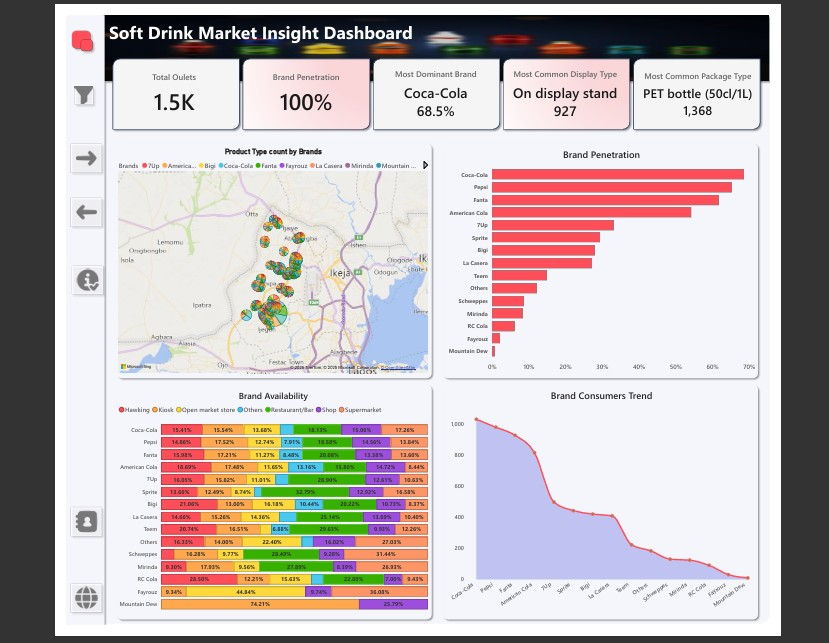

What the dashboard file says about the page in this screenshot:
{"tool":"powerbi","page":{"name":"Dashboard 1","canvas":[1500,1300],"ordinal":0},"visuals":[{"type":"map","title":"Product Type count by Brands","fields":{"Y":["Oulet_info.Latitude"],"X":["Oulet_info.Longitude"],"Series":["Product_Type.Brands"],"Size":["Product_Type.Product Type count"]},"box":[106.7,282.2,668.9,486.7],"z":0},{"type":"clusteredBarChart","title":"Brand Penetration","fields":{"Y":["Oulet_info.Brand Penetration %"],"Category":["Product_Type.Brands"]},"box":[808.9,282.2,665.6,486.7],"z":1000},{"type":"hundredPercentStackedBarChart","title":"Brand Availability","fields":{"Y":["Product_Type.Brand Availability %"],"Category":["Product_Type.Brands"],"Series":["Oulet_info.Type of Outlet"]},"box":[106.7,797.8,668.9,485.6],"z":2000},{"type":"lineChart","title":"Brand Consumers Trend","fields":{"Y":["Product_Type.Product Type count"],"Category":["Product_Type.Brands"]},"box":[808.3,797.2,666.7,486.1],"z":3000},{"type":"cardVisual","fields":{"Data":["Oulet_info.Total Oulets"]},"box":[97.8,93.3,264.4,148.9],"z":4000},{"type":"cardVisual","fields":{"Data":["Oulet_info.Brand Penetration %"]},"box":[378.9,93.3,265.6,148.9],"z":5000},{"type":"cardVisual","fields":{"Data":["Oulet_info.Most Dominant Brand + value"]},"box":[652.5,93.4,272.1,149.2],"z":6000},{"type":"cardVisual","fields":{"Data":["Oulet_info.Most Common Display Type + value"]},"box":[924.6,93.4,278.7,149.2],"z":7000},{"type":"cardVisual","fields":{"Data":["Oulet_info.Most Common Package Type + value"]},"box":[1211.1,93.3,271.1,148.9],"z":8000},{"type":"shape","box":[2.5,24.1,58.2,55.7],"z":9000},{"type":"shape","box":[21.5,43,43,41.8],"z":10000},{"type":"actionButton","box":[8.9,144.3,58.2,55.7],"z":11000},{"type":"textbox","box":[86,5,875,75],"z":12000},{"type":"actionButton","box":[0,265,85,80],"z":14000},{"type":"actionButton","box":[0,380,85,80],"z":15000},{"type":"actionButton","box":[2.5,525,85,80],"z":16000},{"type":"actionButton","box":[0,1202.5,85,80],"z":17000},{"type":"actionButton","box":[0,1040,85,80],"z":18000}]}

Visuals, with their boxes on the page's 1500x1300 design canvas (x1, y1, x2, y2). These are canvas units, not pixel positions in the 829x643 screenshot, which may show the page scaled, cropped or inside an application window:
"Product Type count by Brands" map: (107, 282, 776, 769)
"Brand Penetration" clusteredBarChart: (809, 282, 1474, 769)
"Brand Availability" hundredPercentStackedBarChart: (107, 798, 776, 1283)
"Brand Consumers Trend" lineChart: (808, 797, 1475, 1283)
cardVisual - Oulet_info.Total Oulets: (98, 93, 362, 242)
cardVisual - Oulet_info.Brand Penetration %: (379, 93, 644, 242)
cardVisual - Oulet_info.Most Dominant Brand + value: (652, 93, 925, 243)
cardVisual - Oulet_info.Most Common Display Type + value: (925, 93, 1203, 243)
cardVisual - Oulet_info.Most Common Package Type + value: (1211, 93, 1482, 242)
shape: (2, 24, 61, 80)
shape: (22, 43, 64, 85)
actionButton: (9, 144, 67, 200)
textbox: (86, 5, 961, 80)
actionButton: (0, 265, 85, 345)
actionButton: (0, 380, 85, 460)
actionButton: (2, 525, 88, 605)
actionButton: (0, 1202, 85, 1282)
actionButton: (0, 1040, 85, 1120)
